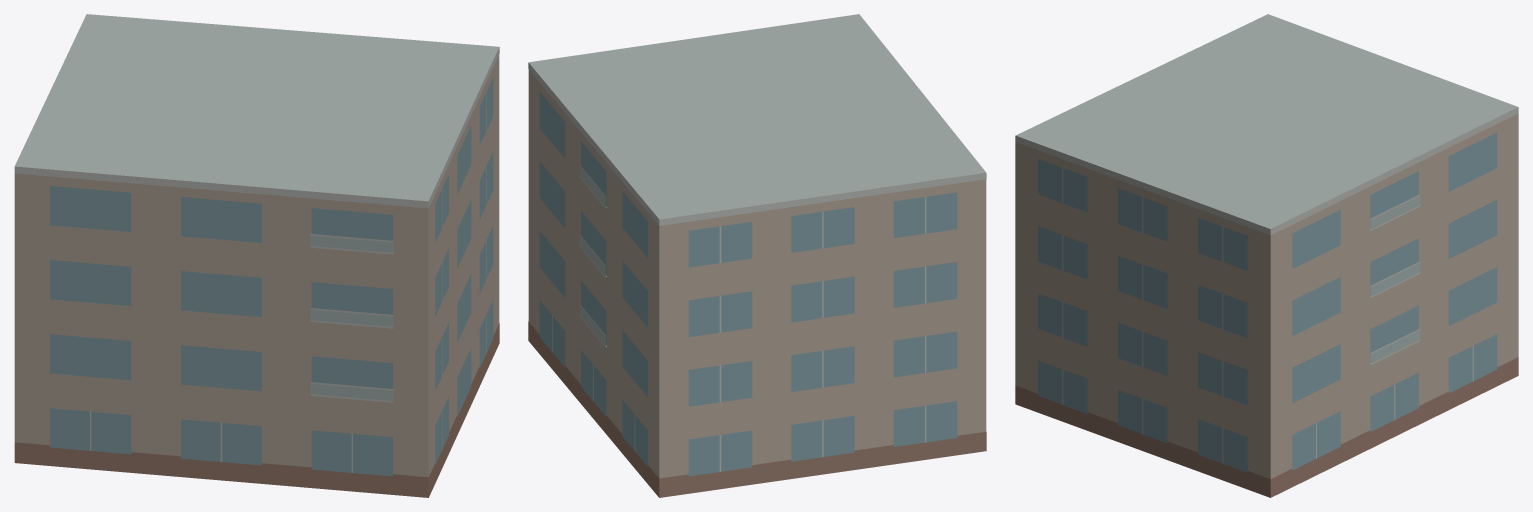
File: survey-upis-33018351.glb
The picture shows the model from 3 angles, left to right: view 1: azimuth 30°, elevation 25°; view 2: azimuth 150°, elevation 25°; view 3: azimuth 270°, elevation 25°; orthographic projection. The views are drawn at different scales.
Parts seen in each view (by area): view 1: survey-upis-33018351.tmp; view 2: survey-upis-33018351.tmp; view 3: survey-upis-33018351.tmp.
Boxes of the visible parts, x1,y1,x2,y2 form: survey-upis-33018351.tmp: [14, 14, 499, 497]; survey-upis-33018351.tmp: [528, 14, 986, 497]; survey-upis-33018351.tmp: [1015, 14, 1518, 497].
Bounding box in the file's own units: 17.86 × 10.4 × 17.65.
